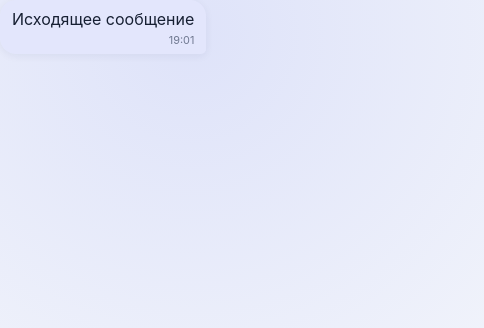
Test: message context menu › replaces the native right-click menu and copies the real message text
The image size is (484, 328).
Later steps or results of the test are not shown.
expect the text "Исходящее сообщение" is shown: met, box [12, 9, 194, 29]
Right-click the text "Исходящее сообщение" at (103, 27), box [0, 0, 206, 54]
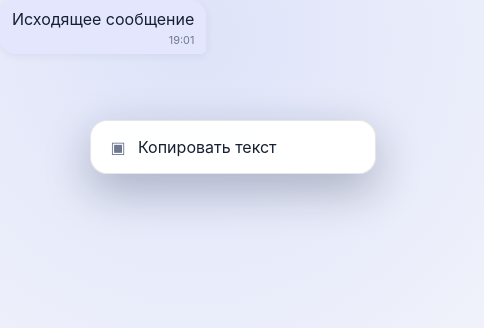
expect the menu named "Действия с сообщением" is shown: met, box [90, 120, 376, 174]
